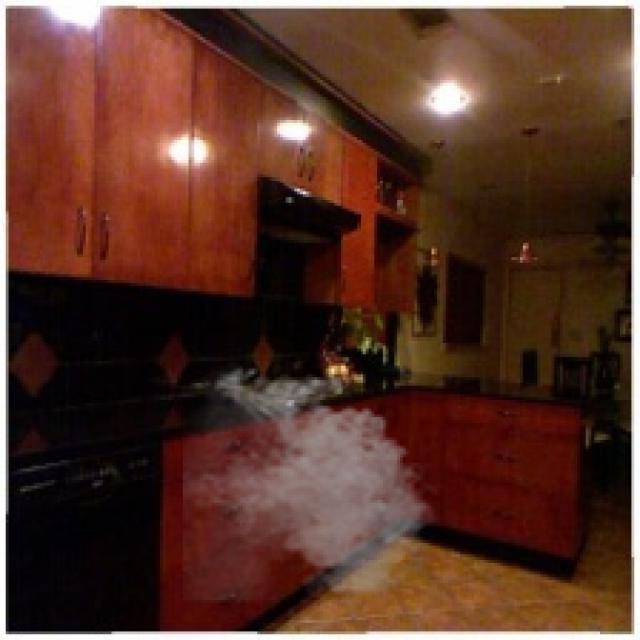Smoke: (183, 360, 443, 603)
